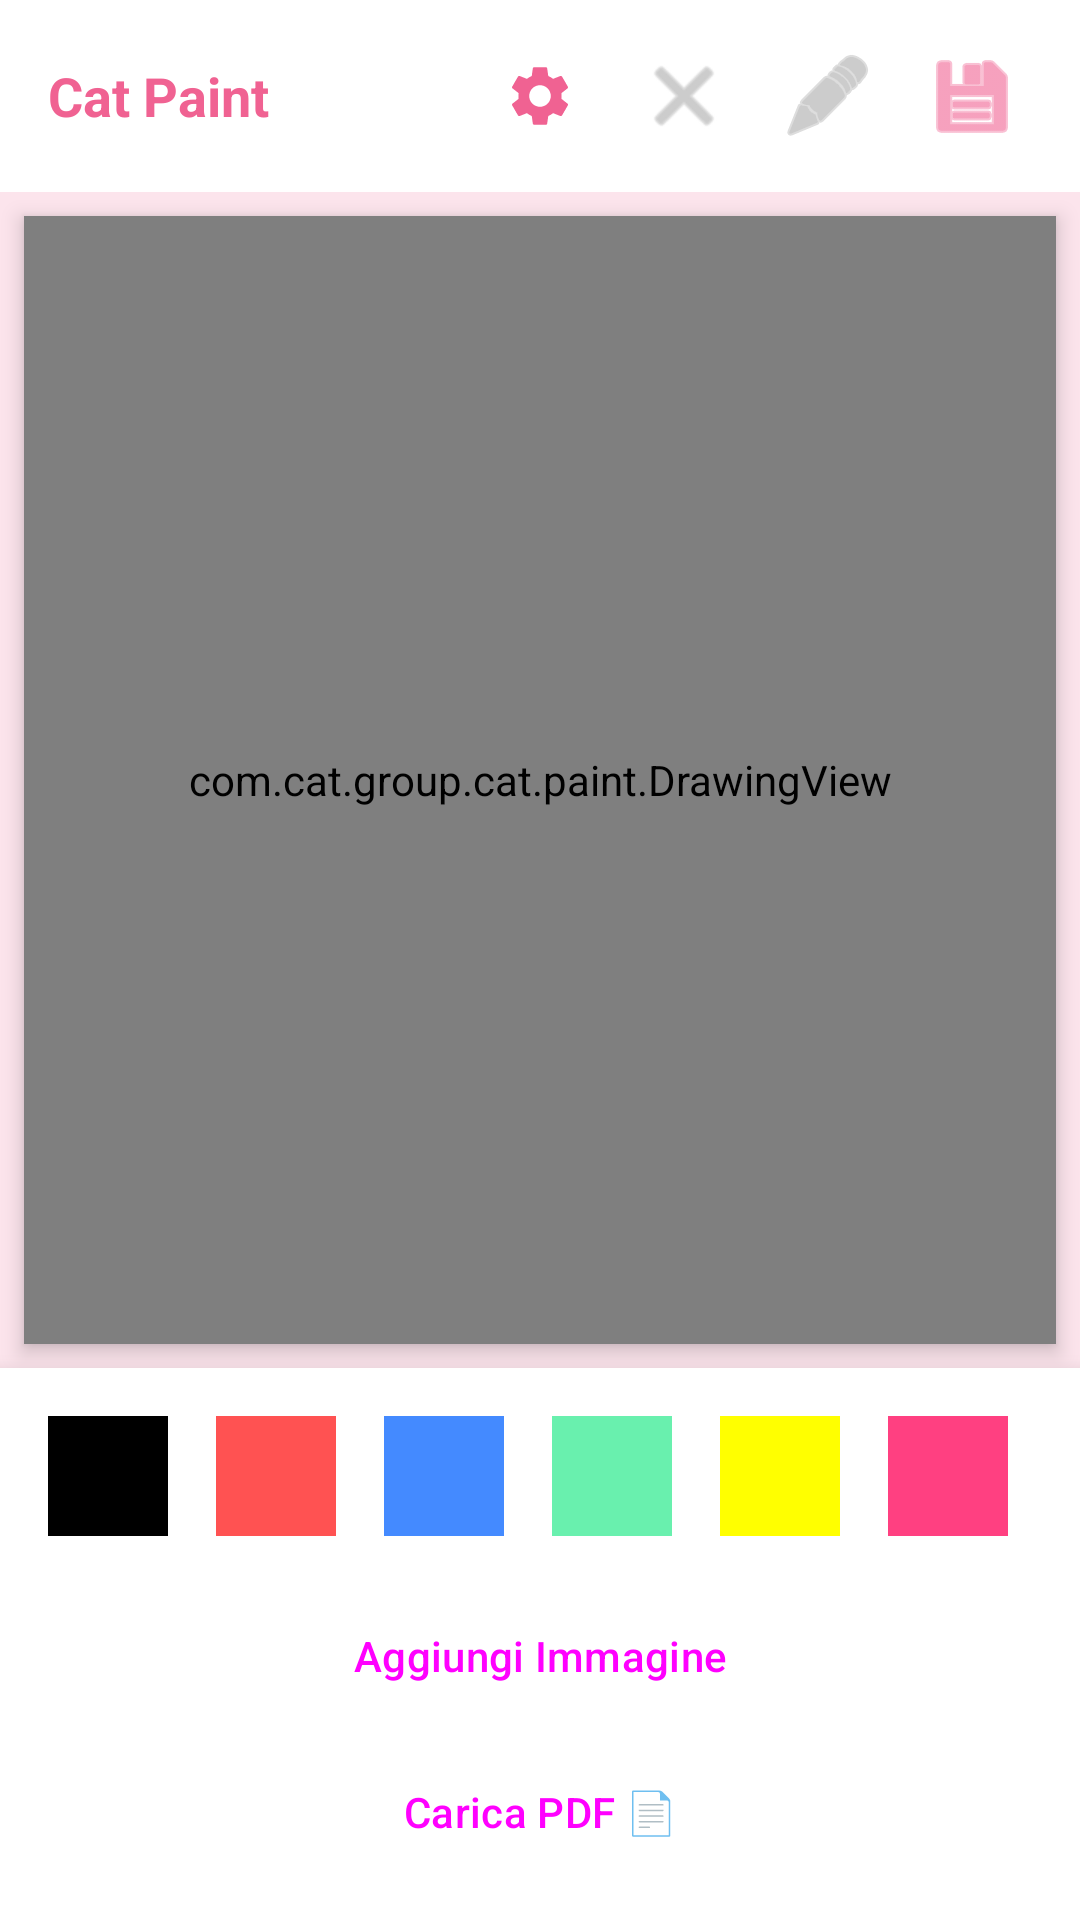

Icons on this 1080px x 1920px Android screen, each with the point to tap as point (x, y):
Aggiungi Testo: point (828, 95)
Impostazioni: point (540, 96)
Pulisci: point (684, 96)
Salva: point (972, 96)
